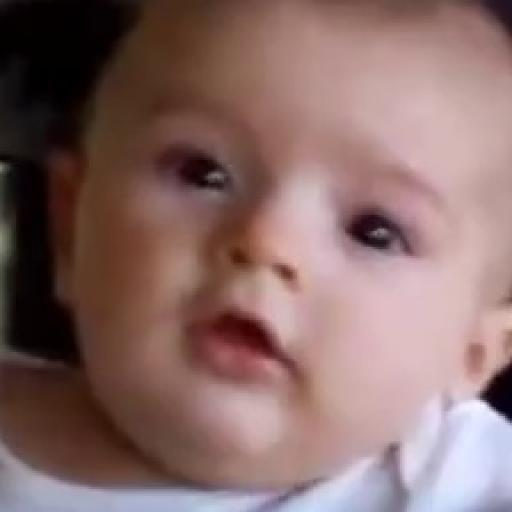Autism: (108, 10, 474, 456)
